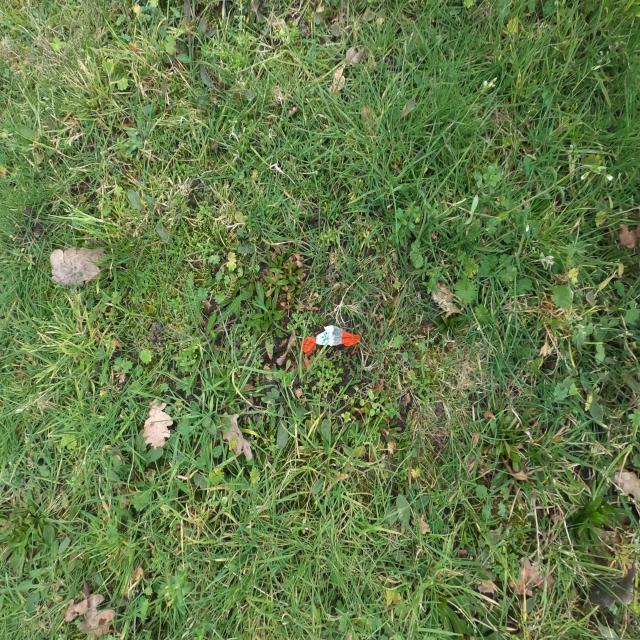Plastic: (300, 325, 360, 355)
